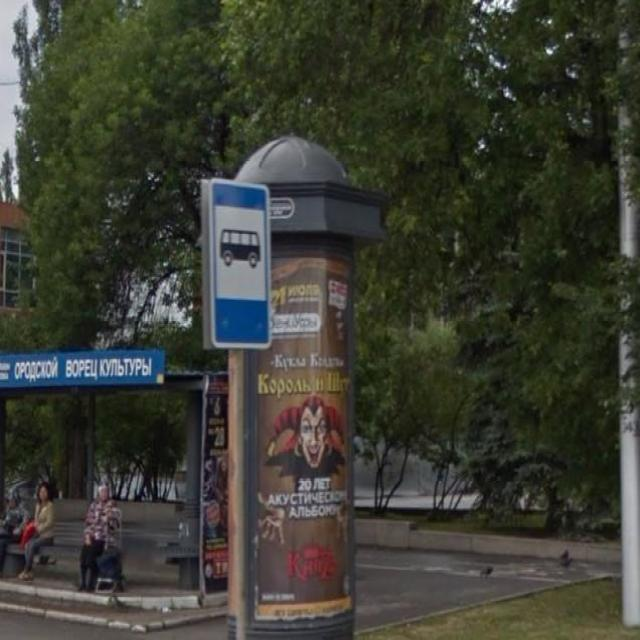traffic_sign: (207, 174, 276, 352)
